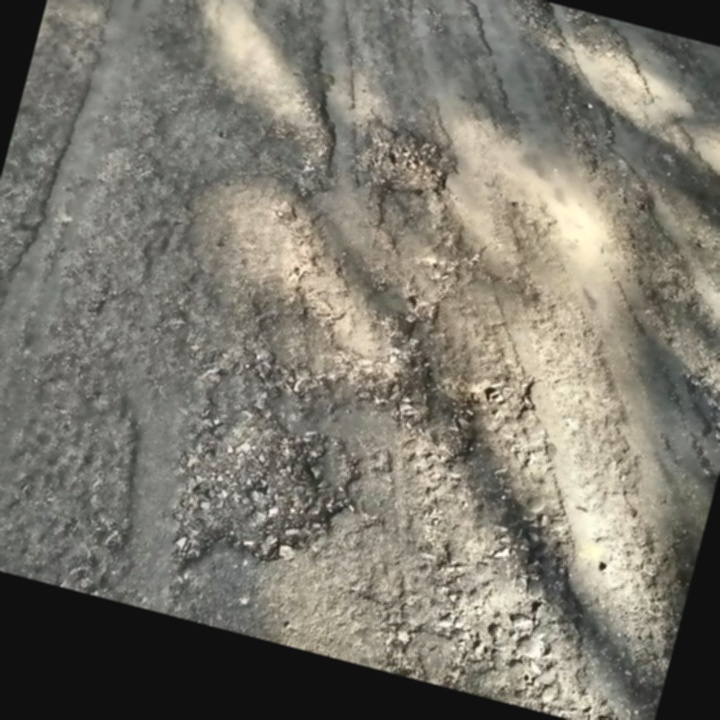pothole: (146, 396, 363, 599), (349, 112, 463, 207), (494, 0, 572, 45)
